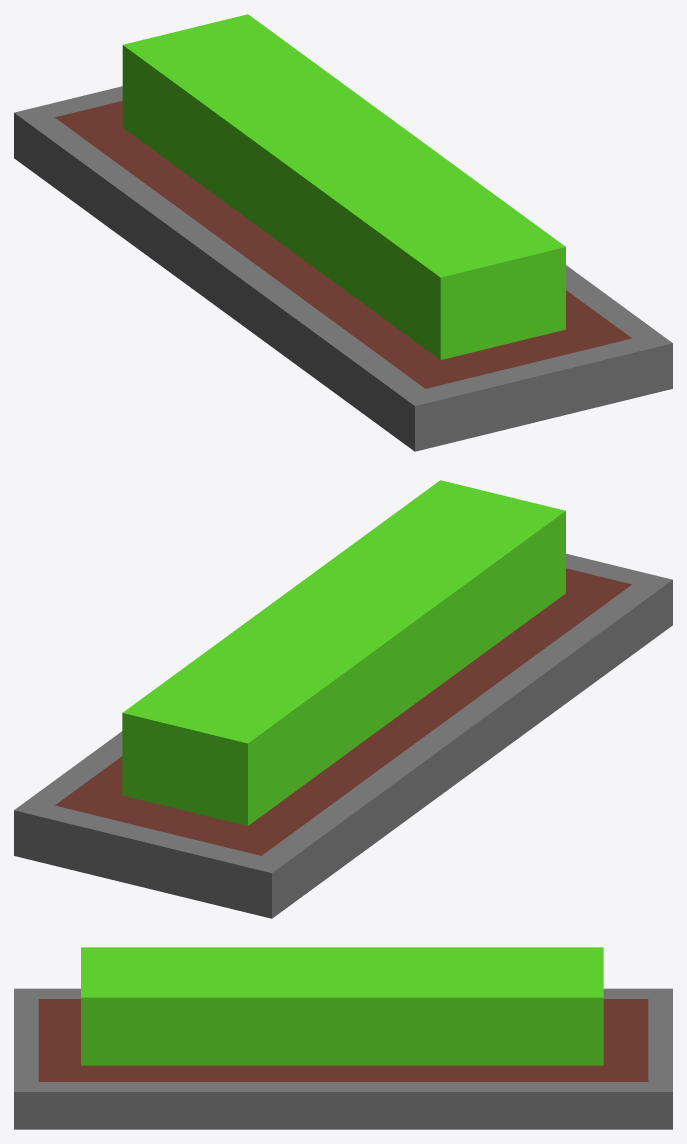
The model's file is plant.fbx.
3 views of the same model, one above another, from view 1: azimuth 30°, elevation 25°; view 2: azimuth 150°, elevation 25°; view 3: azimuth 270°, elevation 25° (orthographic). The views are drawn at different scales.
Visible parts, largest first — view 1: Env_Planter; view 2: Env_Planter; view 3: Env_Planter.
Boxes of the visible parts, x1,y1,x2,y2 form: Env_Planter: (14,14,672,451); Env_Planter: (14,480,672,918); Env_Planter: (14,947,672,1129).
Bounding box in the file's own units: 29.01 × 13.77 × 78.09.
